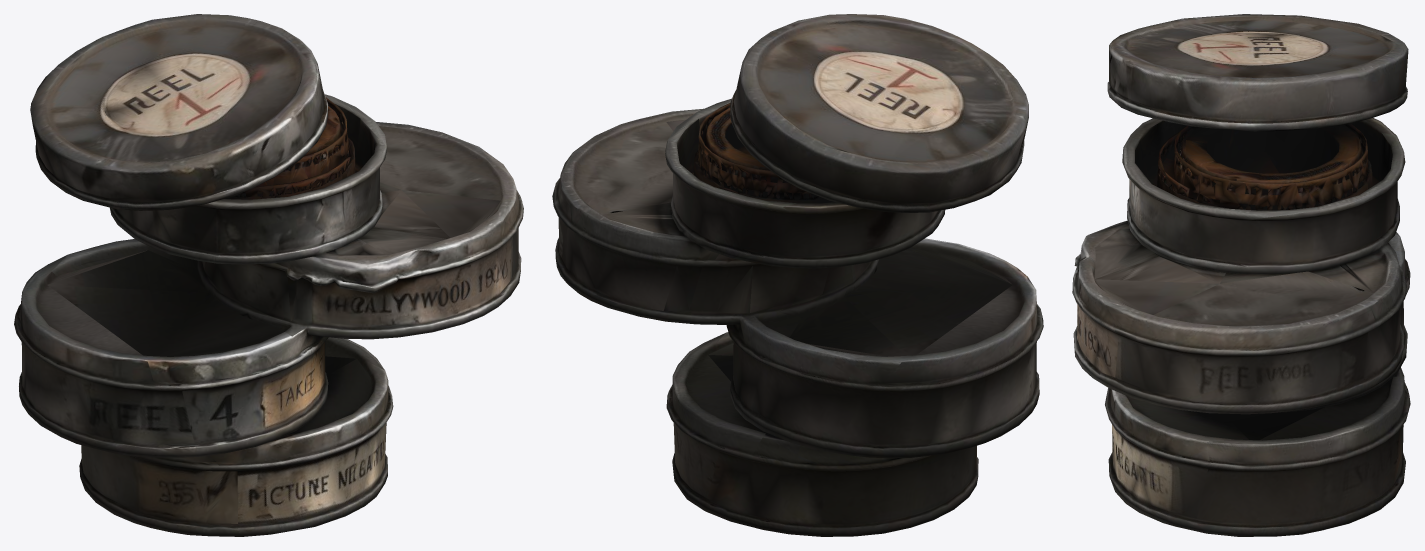
Rendered from int-film-can-stack.glb.
3 renders of one model, left to right at view 1: azimuth 30°, elevation 25°; view 2: azimuth 150°, elevation 25°; view 3: azimuth 270°, elevation 25°, orthographic.
Parts seen in each view (by area): view 1: model; view 2: model; view 3: model.
Boxes of the visible parts, x1,y1,x2,y2 form: model: [14, 14, 523, 536]; model: [552, 14, 1043, 536]; model: [1072, 14, 1410, 536].
Size of the model in its own units: 0.5602 by 0.5 by 0.3635.
Materials: 1 (1 with a texture image).
